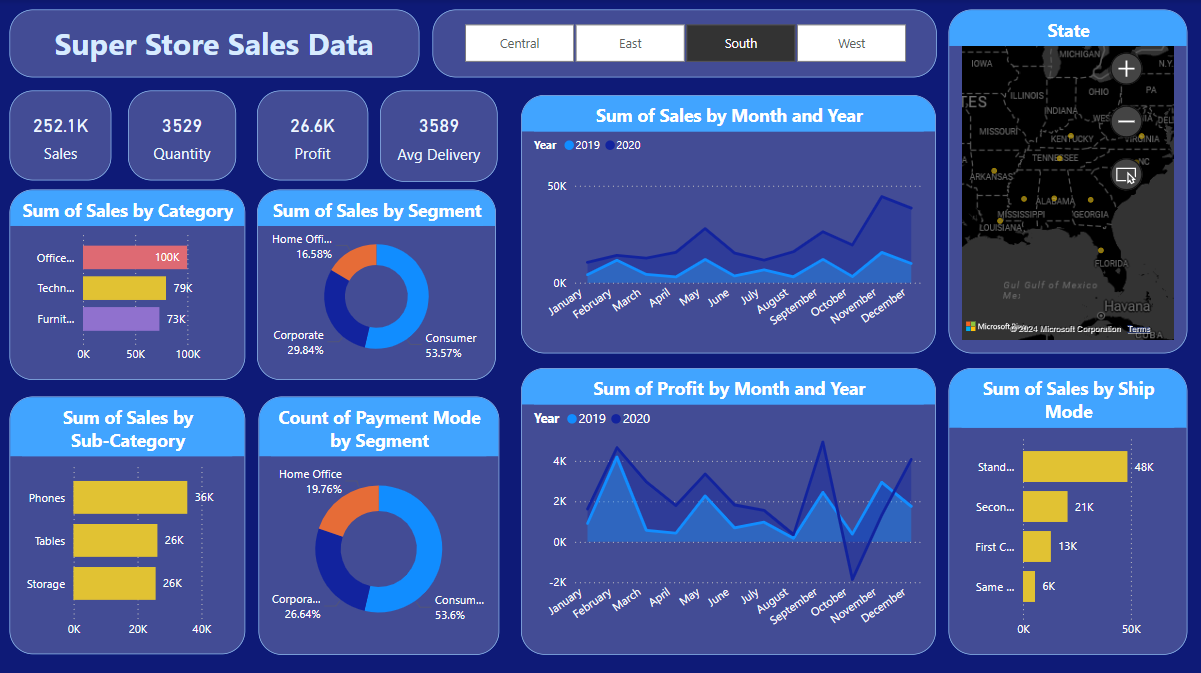

The dashboard page shown, as its layout file describes it:
{"tool":"powerbi","page":{"name":"Dashboard","canvas":[1280,720],"ordinal":0},"visuals":[{"type":"clusteredBarChart","fields":{"Category":["Sheet1.Category"],"Y":["Sum(Sheet1.Sales)"]},"box":[18.9,202.2,241.9,202.2],"z":0},{"type":"clusteredBarChart","fields":{"Category":["Sheet1.Sub-Category","Sheet1.Category"],"Y":["Sum(Sheet1.Sales)"]},"box":[18.9,421.4,241.9,274],"z":1000},{"type":"clusteredBarChart","fields":{"Category":["Sheet1.Ship Mode","Sheet1.Sub-Category"],"Y":["Sum(Sheet1.Sales)"]},"box":[1007.3,391.2,253.2,304.3],"z":2000},{"type":"stackedAreaChart","fields":{"Y":["Sum(Sheet1.Sales)"],"Series":["Sheet1.Order Date.Variation.Date Hierarchy.Year"],"Category":["Sheet1.Order Date.Variation.Date Hierarchy.Month","Sheet1.Order Date.Variation.Date Hierarchy.Day"]},"box":[553.7,102,440.3,274],"z":3000},{"type":"stackedAreaChart","fields":{"Series":["Sheet1.Order Date.Variation.Date Hierarchy.Year"],"Category":["Sheet1.Order Date.Variation.Date Hierarchy.Month","Sheet1.Order Date.Variation.Date Hierarchy.Day"],"Y":["Sum(Sheet1.Profit)"]},"box":[553.7,391.2,440.3,304.3],"z":4000},{"type":"map","fields":{"Category":["Sheet1.State"]},"box":[1007.3,11.3,253.2,364.7],"z":5000},{"type":"donutChart","fields":{"Category":["Sheet1.Segment"],"Y":["Sum(Sheet1.Sales)"]},"box":[274,202.2,253.2,202.2],"z":6000},{"type":"donutChart","fields":{"Category":["Sheet1.Segment"],"Y":["CountNonNull(Sheet1.Payment Mode)"]},"box":[275.9,421.4,255.1,274],"z":7000},{"type":"slicer","fields":{"Values":["Sheet1.Region"]},"box":[459.2,11.3,534.8,71.8],"z":8000},{"type":"textbox","box":[11.3,11.3,434.6,71.8],"z":9000},{"type":"card","fields":{"Values":["Sum(Sheet1.Sales)"]},"box":[24.6,96.4,107.7,96.4],"z":10000},{"type":"card","fields":{"Values":["Sum(Sheet1.Quantity)"]},"box":[145.5,96.4,113.4,96.4],"z":11000},{"type":"card","fields":{"Values":["Sum(Sheet1.Profit)"]},"box":[274,98.3,117.2,96.4],"z":12000},{"type":"card","fields":{"Values":["Sum(Sheet1.Avg Delivery)"]},"box":[404.4,96.4,124.7,96.4],"z":13000}]}

Visuals, with their boxes in screenshot pixels (x1, y1, x2, y2), scaled from the page's 1280x720 canvas onto the 1201x673 screenshot:
clusteredBarChart - Sheet1.Category x Sum(Sheet1.Sales): region(18, 189, 245, 378)
clusteredBarChart - Sheet1.Sub-Category x Sheet1.Category: region(18, 394, 245, 650)
clusteredBarChart - Sheet1.Ship Mode x Sheet1.Sub-Category: region(945, 366, 1183, 650)
stackedAreaChart - Sum(Sheet1.Sales) x Sheet1.Order Date.Variation.Date Hierarchy.Year: region(520, 95, 933, 351)
stackedAreaChart - Sheet1.Order Date.Variation.Date Hierarchy.Year x Sheet1.Order Date.Variation.Date Hierarchy.Month: region(520, 366, 933, 650)
map - Sheet1.State: region(945, 11, 1183, 351)
donutChart - Sheet1.Segment x Sum(Sheet1.Sales): region(257, 189, 495, 378)
donutChart - Sheet1.Segment x CountNonNull(Sheet1.Payment Mode): region(259, 394, 498, 650)
slicer - Sheet1.Region: region(431, 11, 933, 78)
textbox: region(11, 11, 418, 78)
card - Sum(Sheet1.Sales): region(23, 90, 124, 180)
card - Sum(Sheet1.Quantity): region(137, 90, 243, 180)
card - Sum(Sheet1.Profit): region(257, 92, 367, 182)
card - Sum(Sheet1.Avg Delivery): region(379, 90, 496, 180)
